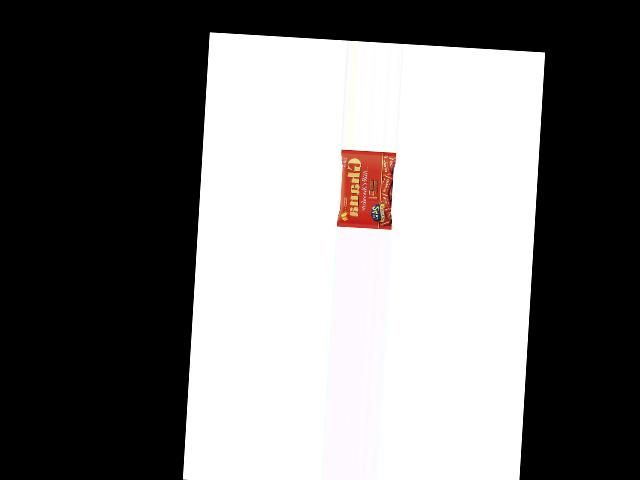chocolate: (338, 150, 397, 231)
